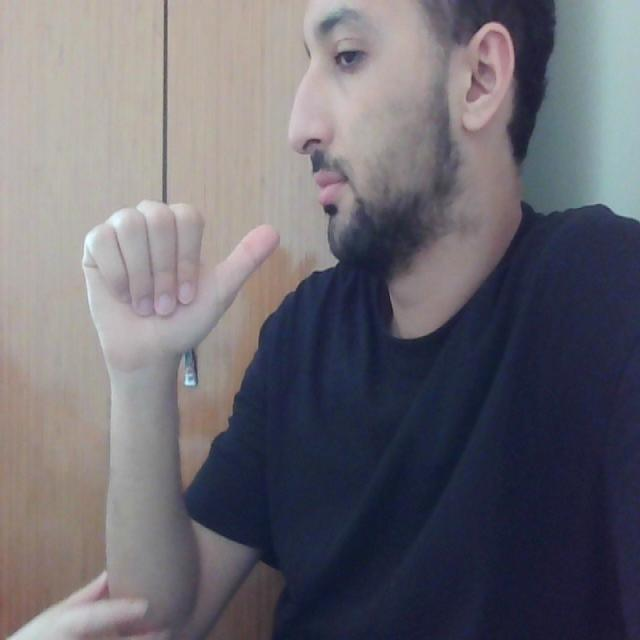icmek: (61, 126, 340, 337)
